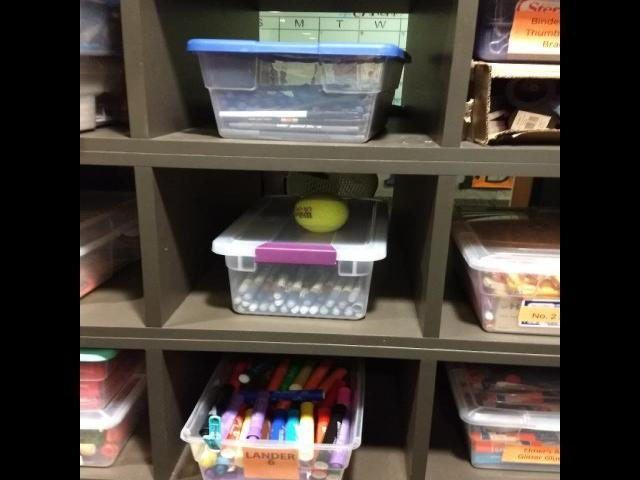tennis-ball: (293, 192, 352, 236)
